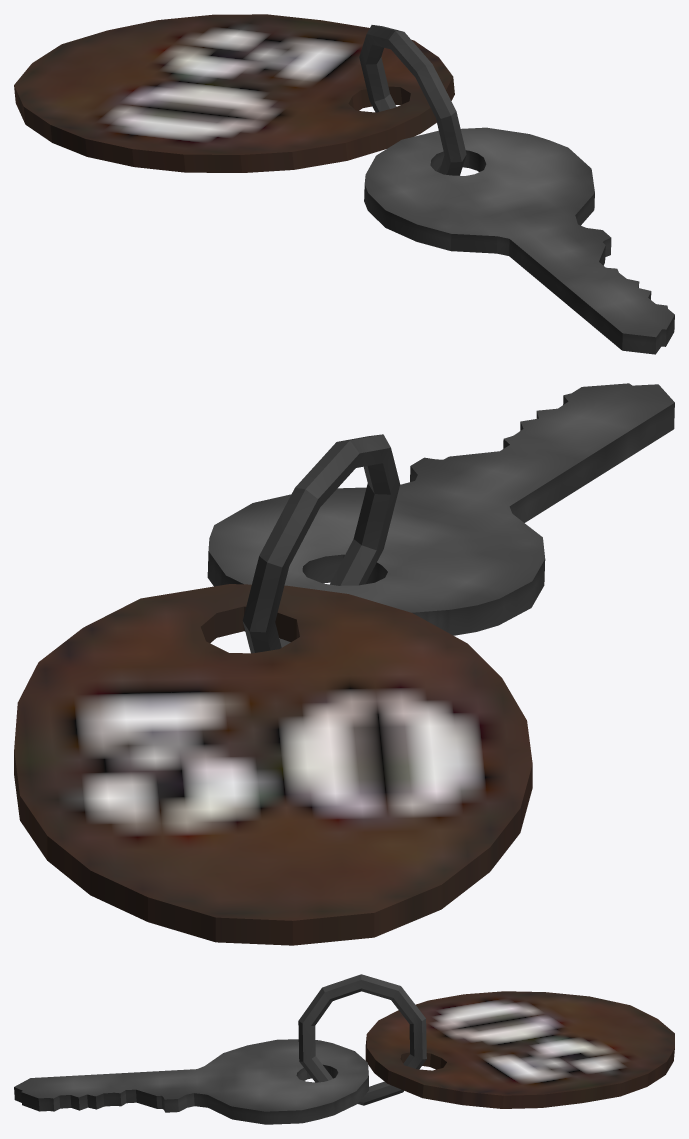
The model's file is key_mp_2_2.obj.
3 views of the same model, one above another, from view 1: azimuth 30°, elevation 25°; view 2: azimuth 150°, elevation 25°; view 3: azimuth 270°, elevation 25° (orthographic). The views are drawn at different scales.
Parts seen in each view (by area): view 1: key_mp_2_2; view 2: key_mp_2_2; view 3: key_mp_2_2.
Boxes of the visible parts, x1,y1,x2,y2 form: key_mp_2_2: [14, 14, 674, 354]; key_mp_2_2: [14, 383, 674, 945]; key_mp_2_2: [14, 974, 674, 1124].
Bounding box in the file's own units: 0.0623 × 0.027 × 0.137.
